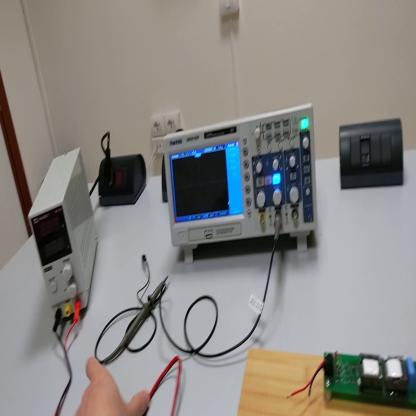hand: (75, 357, 151, 416)
high voltage board: (287, 353, 416, 408)
oscilloscope: (165, 101, 316, 269)
oscilloscope probe tip: (113, 275, 168, 357)
power supply: (28, 147, 99, 323)
socket: (94, 153, 147, 209), (161, 155, 169, 207)
working area: (239, 348, 416, 416)
